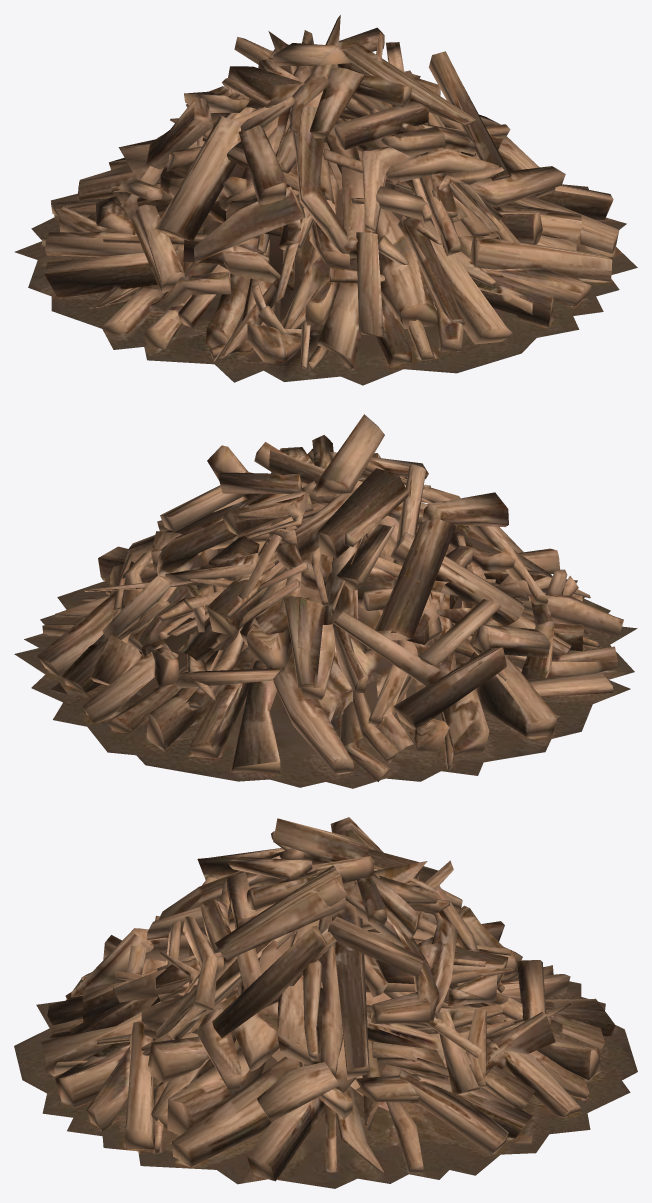
The model's file is firewood_heap_nj.glb.
3 renders of one model, top to bottom at view 1: azimuth 30°, elevation 25°; view 2: azimuth 150°, elevation 25°; view 3: azimuth 270°, elevation 25°, orthographic.
Size of the model in its own units: 0.9443 by 0.4023 by 0.9487.
Materials: 1 (1 with a texture image).
